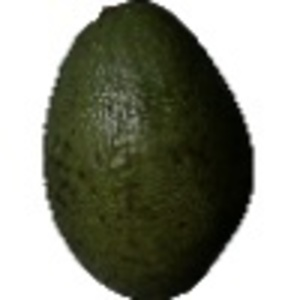abacate: (39, 2, 256, 298)
